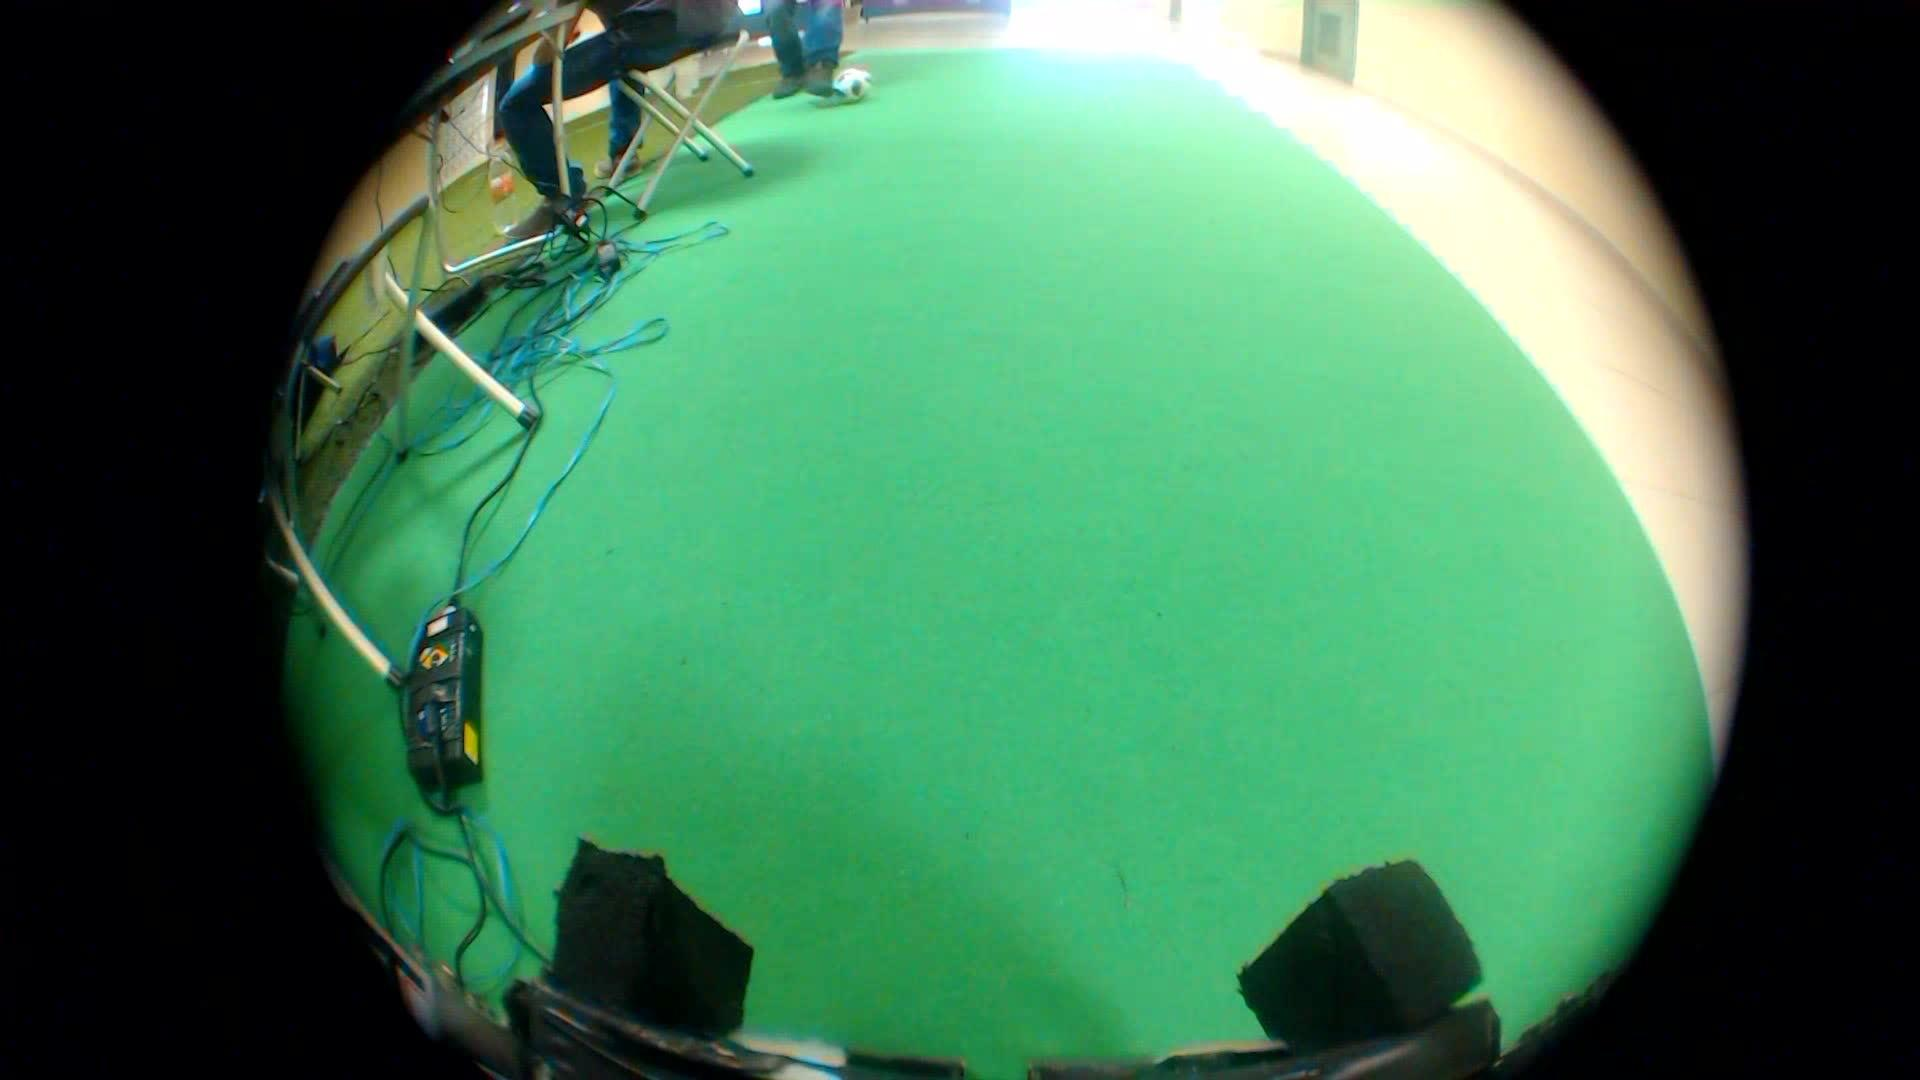ball: (819, 66, 868, 112)
